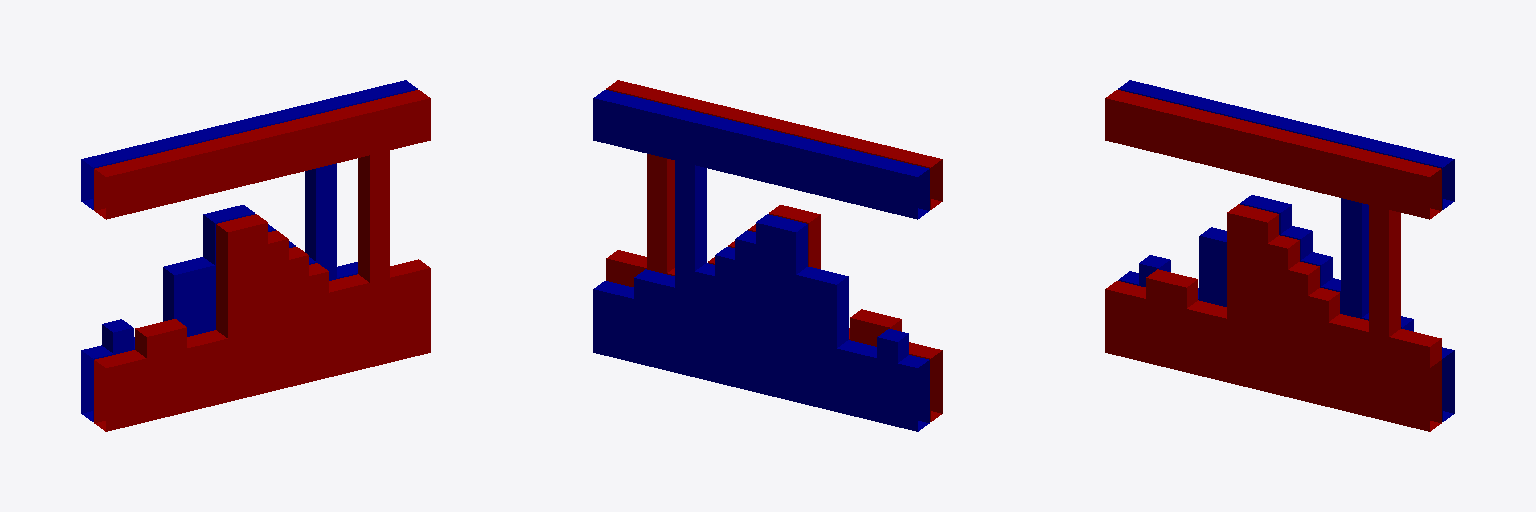
File: Casey3NoMat.obj
The picture shows the model from 3 angles: view 1: azimuth 30°, elevation 25°; view 2: azimuth 150°, elevation 25°; view 3: azimuth 330°, elevation 25°; orthographic projection.
Visible parts, largest first — view 1: Plane; view 2: Plane; view 3: Plane.
Part boxes in pixels (x1,y1,x2,y2): Plane: (81, 80, 430, 431); Plane: (593, 80, 942, 431); Plane: (1105, 80, 1454, 431).
Bounding box in the file's own units: 16 × 12 × 2.11.